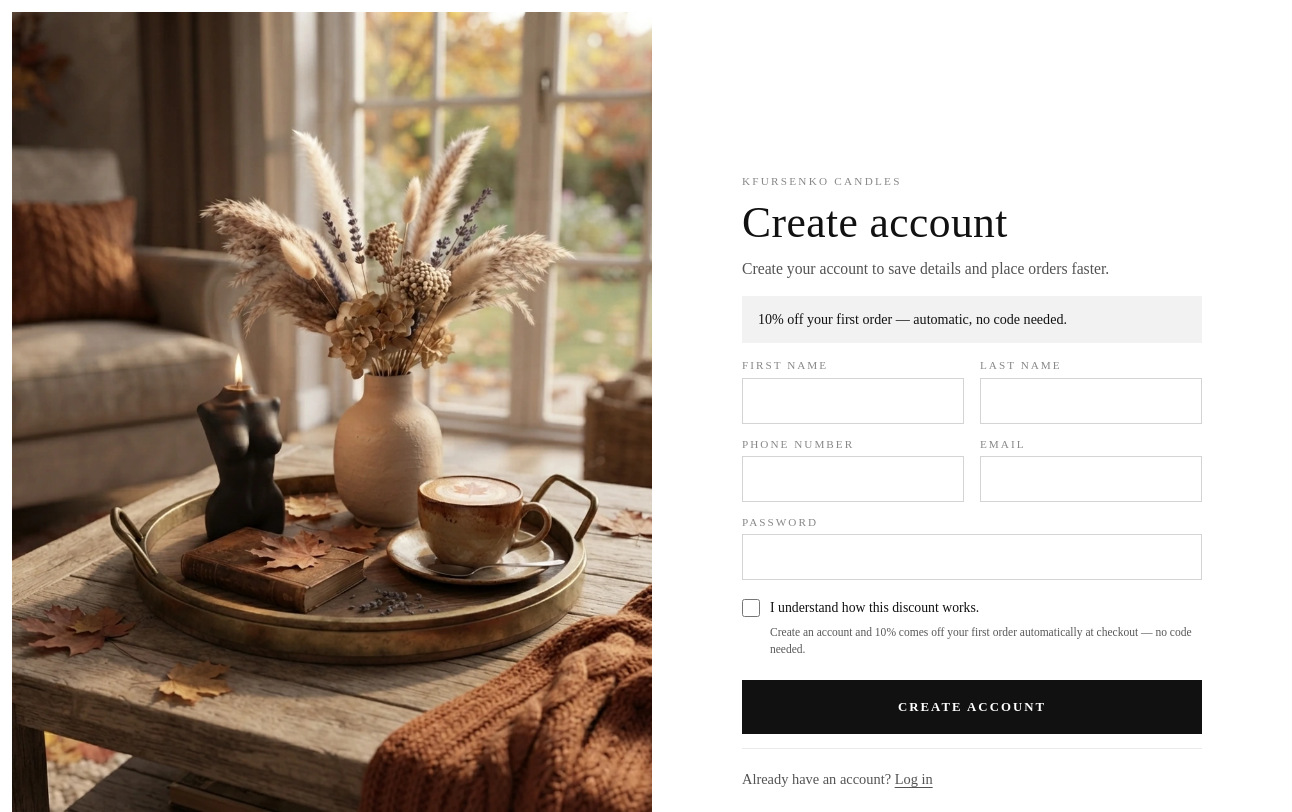
Test: Register: accepting the sign-up discount's terms › names the checkbox with the consent line, and describes it with the terms
expect the text "Create an account and 10% comes off your first order automatically at checkout — no code needed." is shown: met, box [770, 626, 1192, 655]
expect the checkbox labelled "I understand how this discount works." is not checked: met, box [742, 599, 760, 617]
Click the text "I understand how this discount works.": {"x": 875, "y": 608} [770, 598, 979, 618]
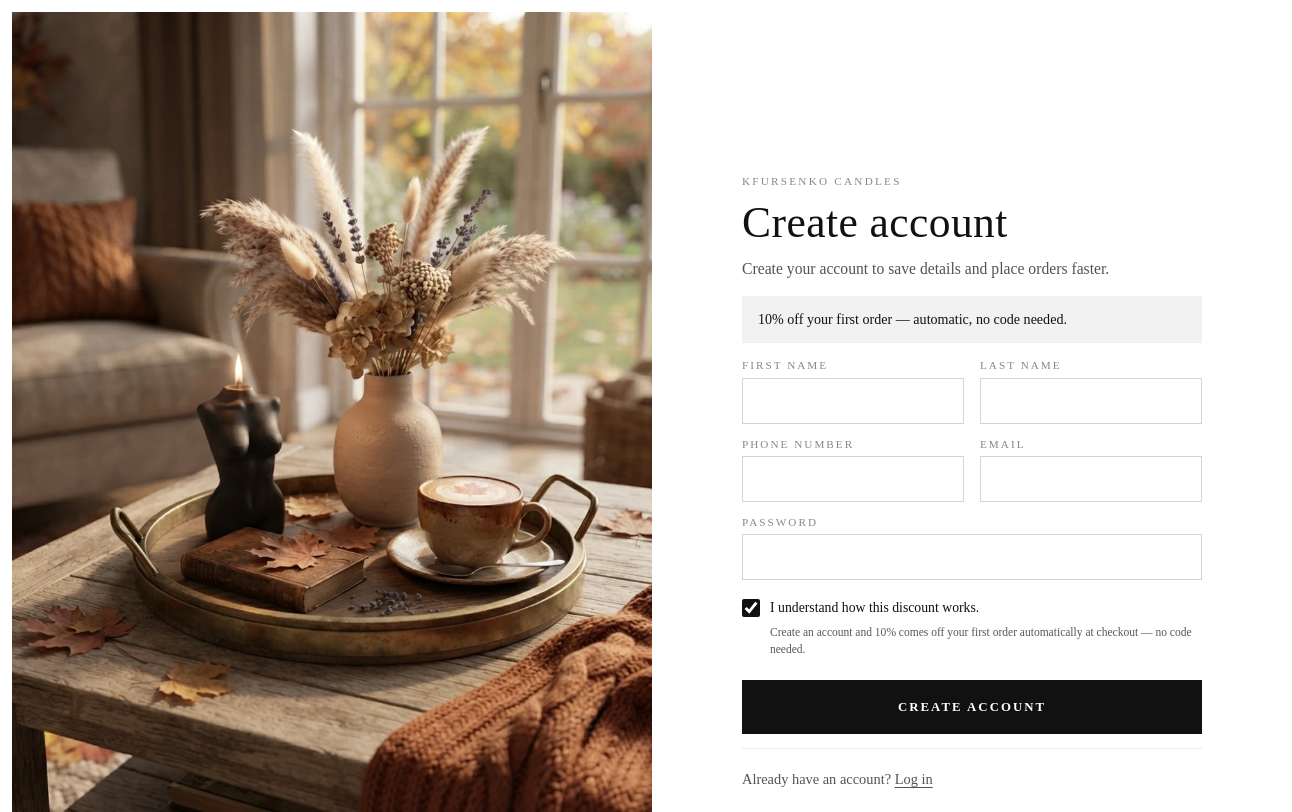
expect the checkbox labelled "I understand how this discount works." is checked: met, box [742, 599, 760, 617]
